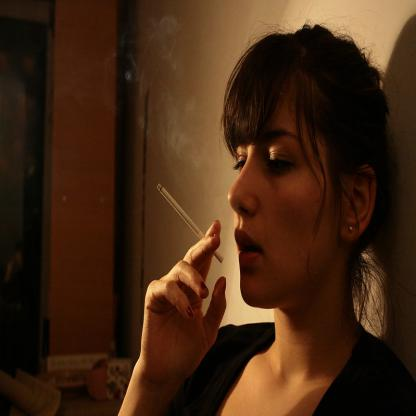smoking: (157, 183, 224, 263)
